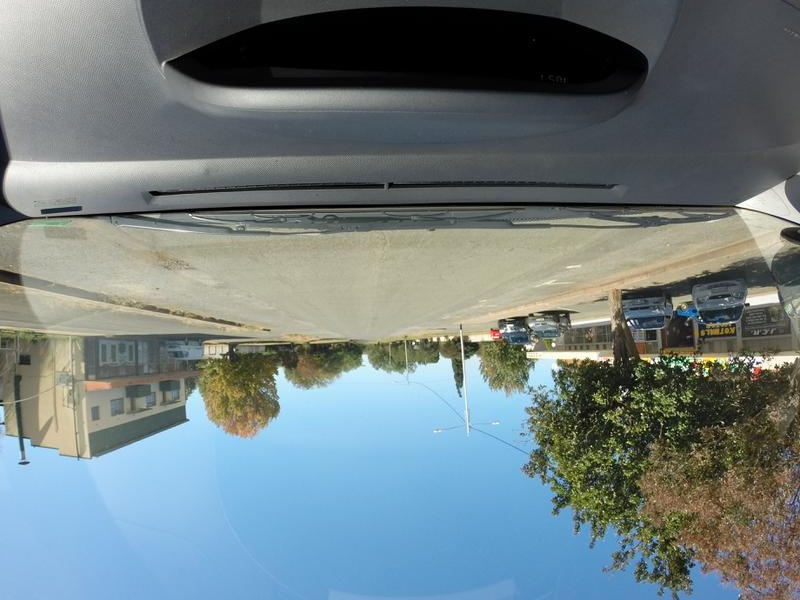pothole: (150, 247, 199, 275)
